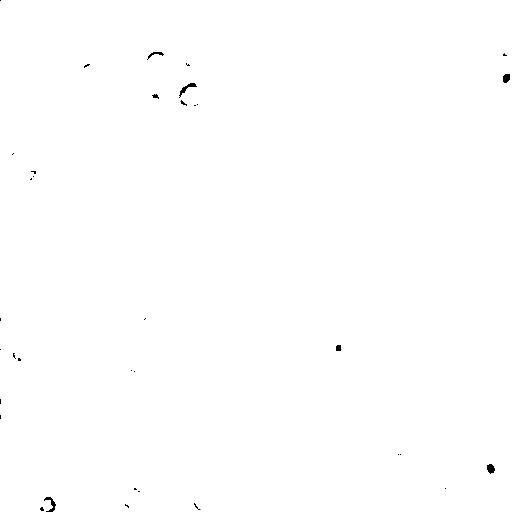micro-algae: (437, 360, 511, 451), (435, 54, 501, 121), (372, 140, 426, 195), (143, 73, 201, 124), (432, 468, 469, 510), (3, 330, 37, 371), (241, 153, 279, 187), (185, 35, 217, 69), (325, 333, 359, 365), (471, 448, 503, 479), (248, 322, 283, 350), (489, 54, 512, 93), (255, 69, 285, 97), (29, 64, 53, 99), (490, 27, 511, 65), (438, 0, 472, 22), (247, 289, 274, 316), (141, 50, 169, 76), (178, 82, 206, 107), (245, 347, 270, 373), (119, 486, 145, 509), (152, 27, 175, 52), (202, 409, 224, 435), (53, 286, 77, 309), (192, 487, 215, 511), (78, 61, 105, 81), (169, 65, 195, 85), (369, 232, 391, 255), (141, 403, 163, 426), (389, 434, 413, 455), (390, 495, 419, 511), (167, 1, 200, 15), (282, 274, 301, 297), (336, 348, 361, 365), (203, 375, 223, 396), (179, 122, 201, 141), (125, 353, 148, 371), (100, 215, 125, 231), (135, 302, 151, 327), (36, 494, 57, 511), (103, 416, 122, 434), (21, 167, 38, 183), (2, 137, 15, 157), (371, 0, 397, 9), (0, 399, 9, 419)
